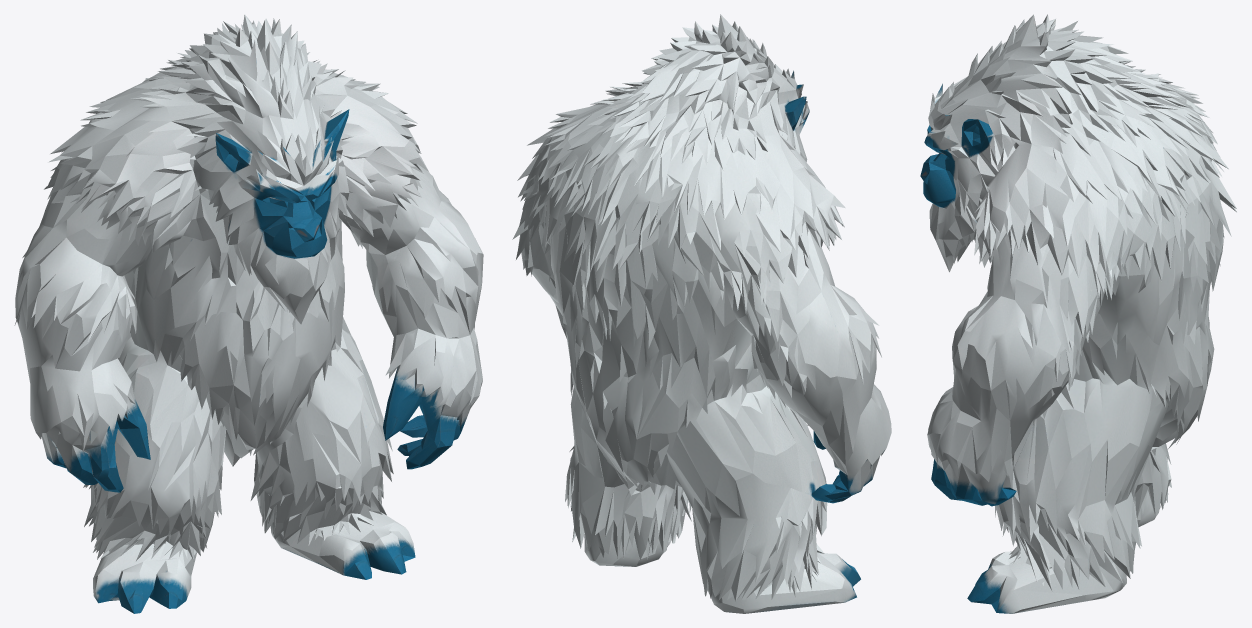
File: yeti.glb
3 views of the same model, side by side, from view 1: azimuth 30°, elevation 25°; view 2: azimuth 150°, elevation 25°; view 3: azimuth 270°, elevation 25° (orthographic). The views are drawn at different scales.
Bounding box in the file's own units: 1.43 × 1.9 × 1.02.
Materials: 1 (1 with a texture image).
